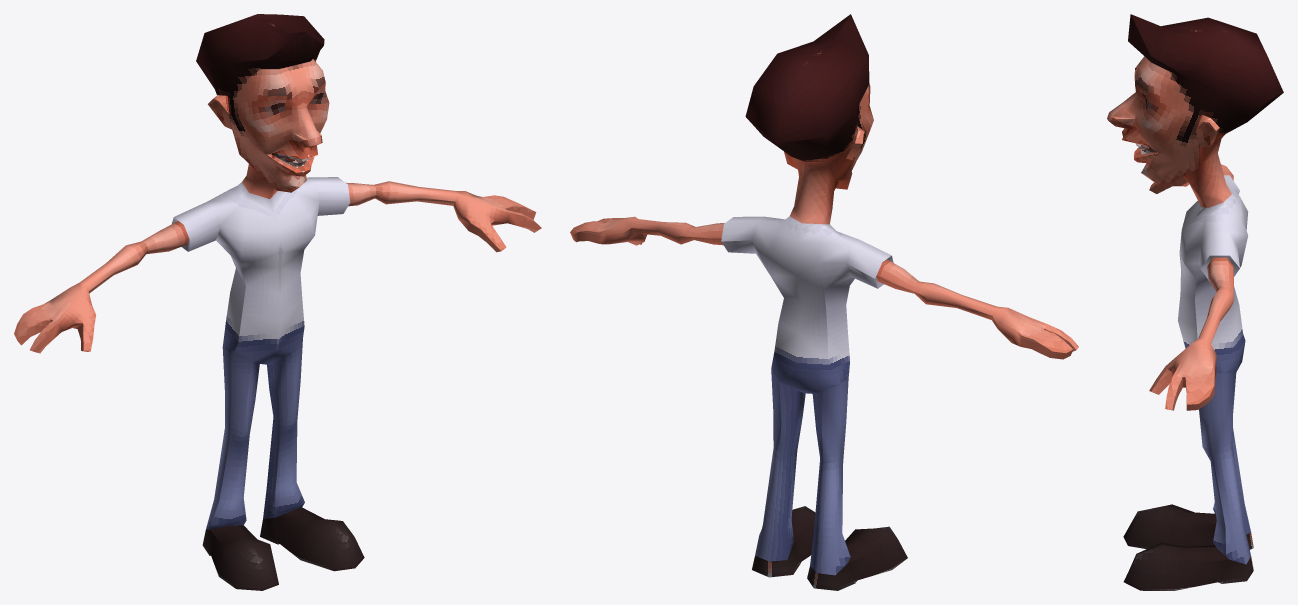
The model's file is MFD_Player.obj.
3 renders of one model, left to right at view 1: azimuth 30°, elevation 25°; view 2: azimuth 150°, elevation 25°; view 3: azimuth 270°, elevation 25°, orthographic. The views are drawn at different scales.
Parts seen in each view (by area): view 1: polymsh1; view 2: polymsh1; view 3: polymsh1.
Boxes of the visible parts, x1,y1,x2,y2 form: polymsh1: [14, 14, 541, 590]; polymsh1: [570, 14, 1078, 590]; polymsh1: [1107, 14, 1283, 590].
Bounding box in the file's own units: 6.92 × 6.96 × 2.04.
